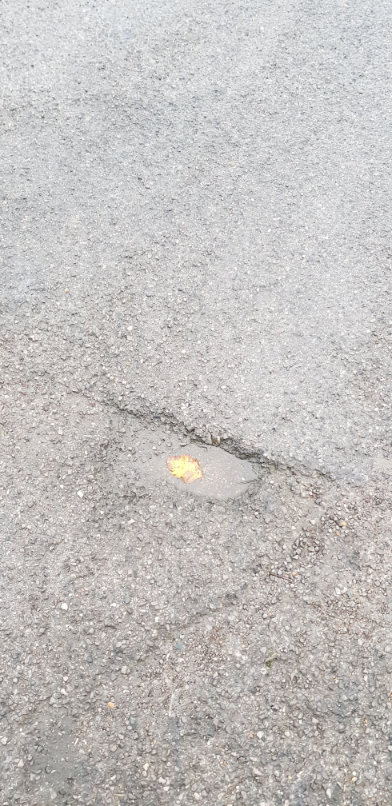pothole: (94, 400, 276, 509)
